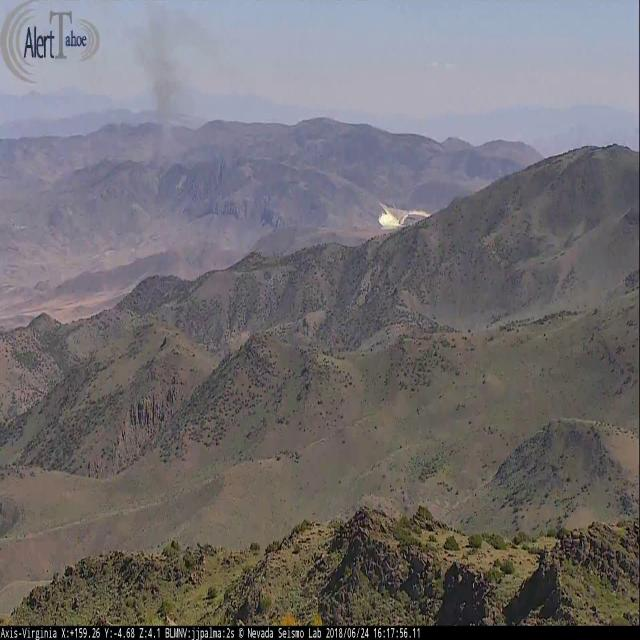smoke: (118, 1, 215, 170)
